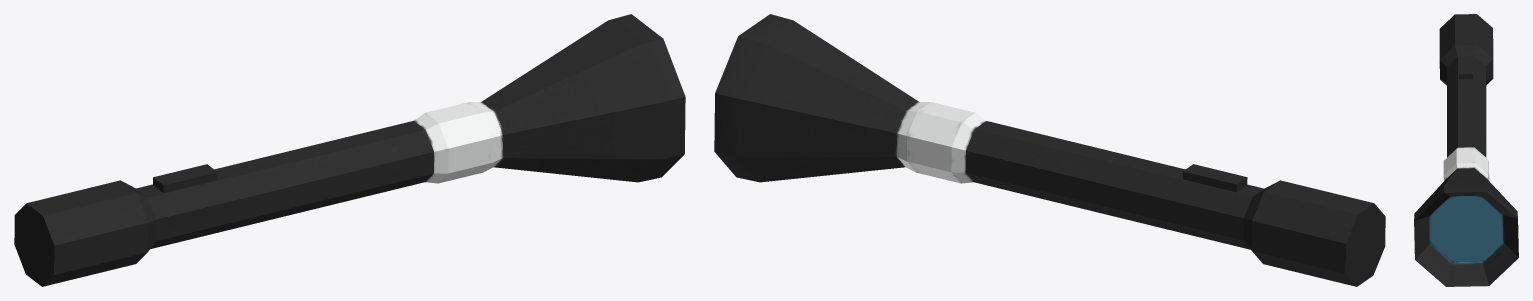
The model's file is linterna.fbx.
3 views of the same model, side by side, from view 1: azimuth 30°, elevation 25°; view 2: azimuth 150°, elevation 25°; view 3: azimuth 270°, elevation 25° (orthographic). The views are drawn at different scales.
Parts seen in each view (by area): view 1: pCylinder1; view 2: pCylinder1; view 3: pCylinder1.
Part boxes in pixels (x1,y1,x2,y2): pCylinder1: [14, 14, 685, 286]; pCylinder1: [714, 14, 1385, 286]; pCylinder1: [1414, 14, 1518, 286].
Bounding box in the file's own units: 200 × 44.11 × 44.11.
